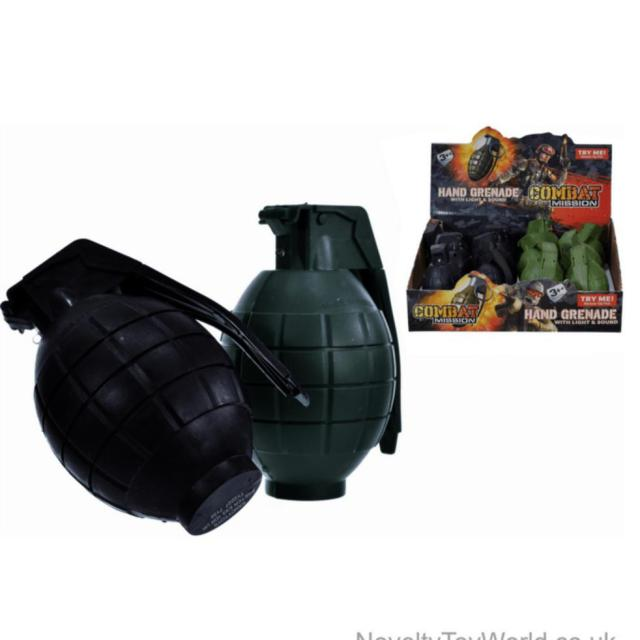grenade: (1, 238, 322, 534), (237, 205, 405, 517), (451, 276, 492, 330), (468, 128, 506, 184)
